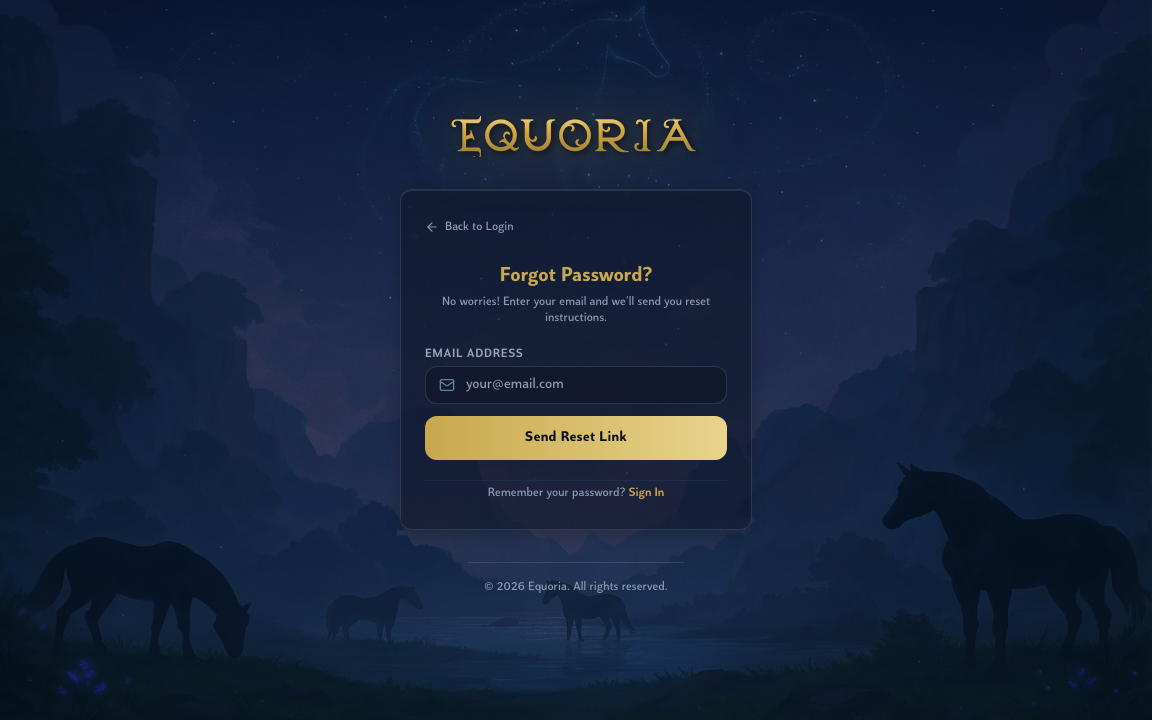
ForgotPasswordPage › Form Validation › clears validation error when user types
The image size is (1152, 720).
Note: Submit empty form to trigger error
Submit the form "Email Address Send Reset Link", box [425, 346, 727, 460]
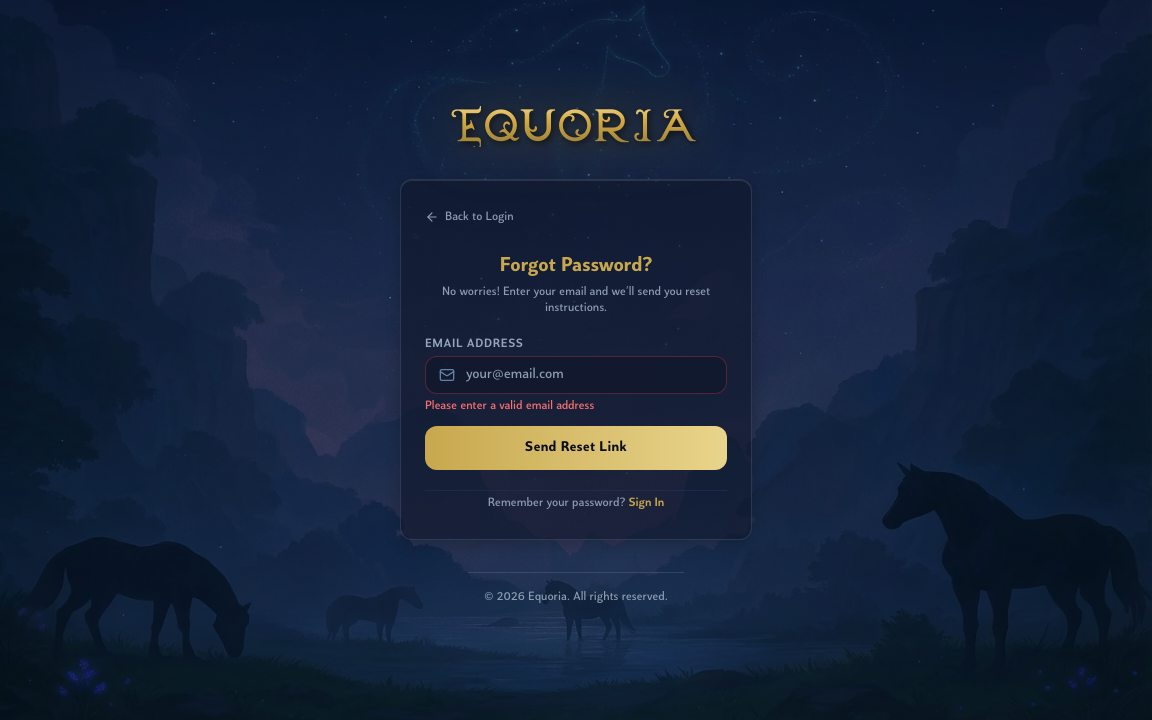
Expected: the text "Please enter a valid email address" is shown, [425, 400, 594, 412]
Note: Start typing to clear error
Type "t" into the field with placeholder "your@email.com".
click(576, 375); type("t")  # box [425, 356, 727, 394]
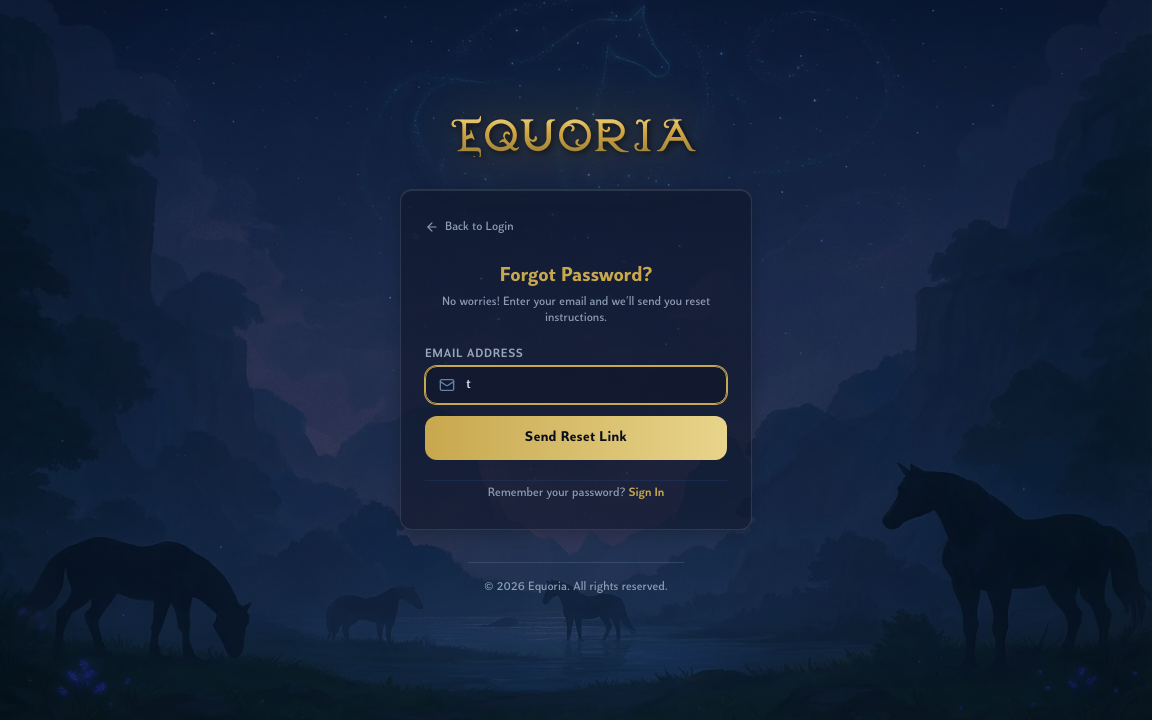
Expected: the text "Please enter a valid email address" is gone
